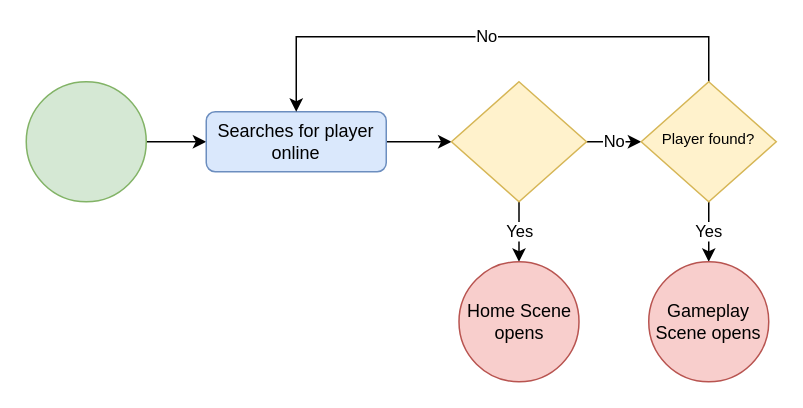
Some shapes in this 803 by 408 pixel diagram are drawn without their labels. The shapes that lost their labels are listed below. From the top down, each one's centre as x and y in pixels, then its label:
(85,141): Find Player Scene opened
(518,141): Cancel Button pressed?
